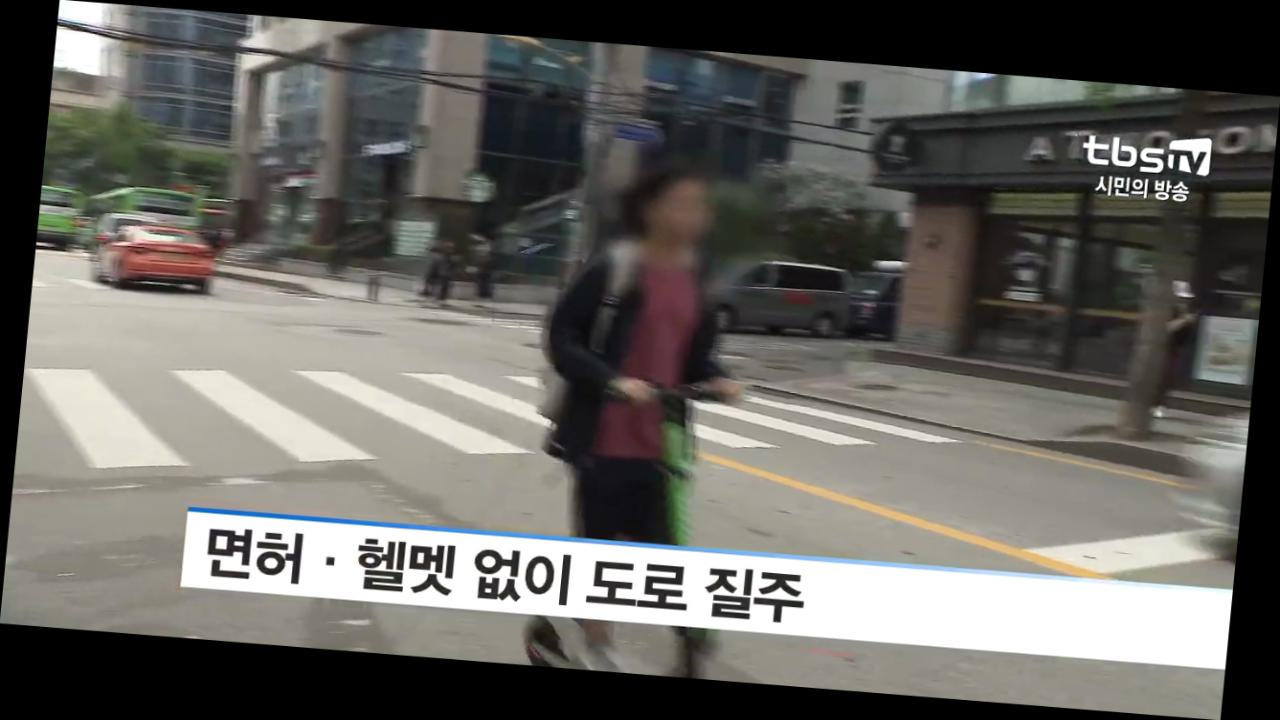nonhelmet: (502, 154, 796, 683)
